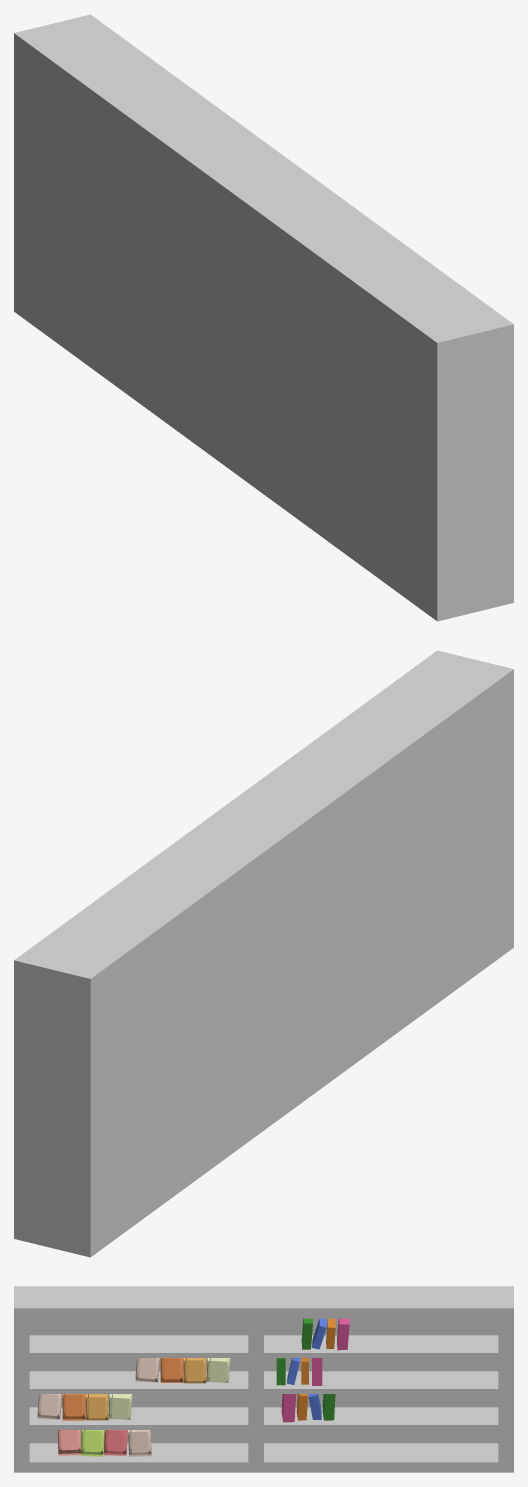
Rendered from theGreatWallOfBEAN.glb.
3 views of the same model, one above another, from view 1: azimuth 30°, elevation 25°; view 2: azimuth 150°, elevation 25°; view 3: azimuth 270°, elevation 25° (orthographic). The views are drawn at different scales.
Parts seen in each view (by area): view 1: Cube; view 2: Cube; view 3: Cube, Cube.002, Cube.003, Cube.001, Cube.012, Cube.008, Cube.004.
Boxes of the visible parts, x1,y1,x2,y2 form: Cube: (14, 14, 513, 621); Cube: (14, 650, 513, 1257); Cube: (14, 1286, 513, 1472); Cube.002: (37, 1394, 132, 1420); Cube.003: (57, 1430, 151, 1456); Cube.001: (135, 1358, 230, 1383); Cube.012: (281, 1394, 335, 1422); Cube.008: (301, 1318, 349, 1350); Cube.004: (276, 1358, 322, 1385).
Bounding box in the file's own units: 5.9 × 20.49 × 56.46.
